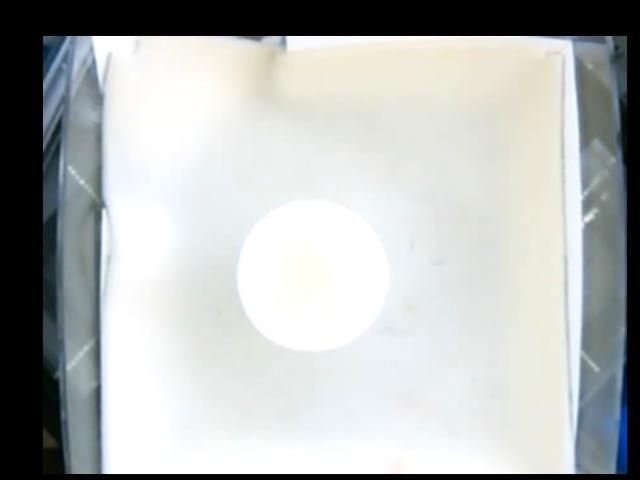Cup: (238, 198, 387, 349)
